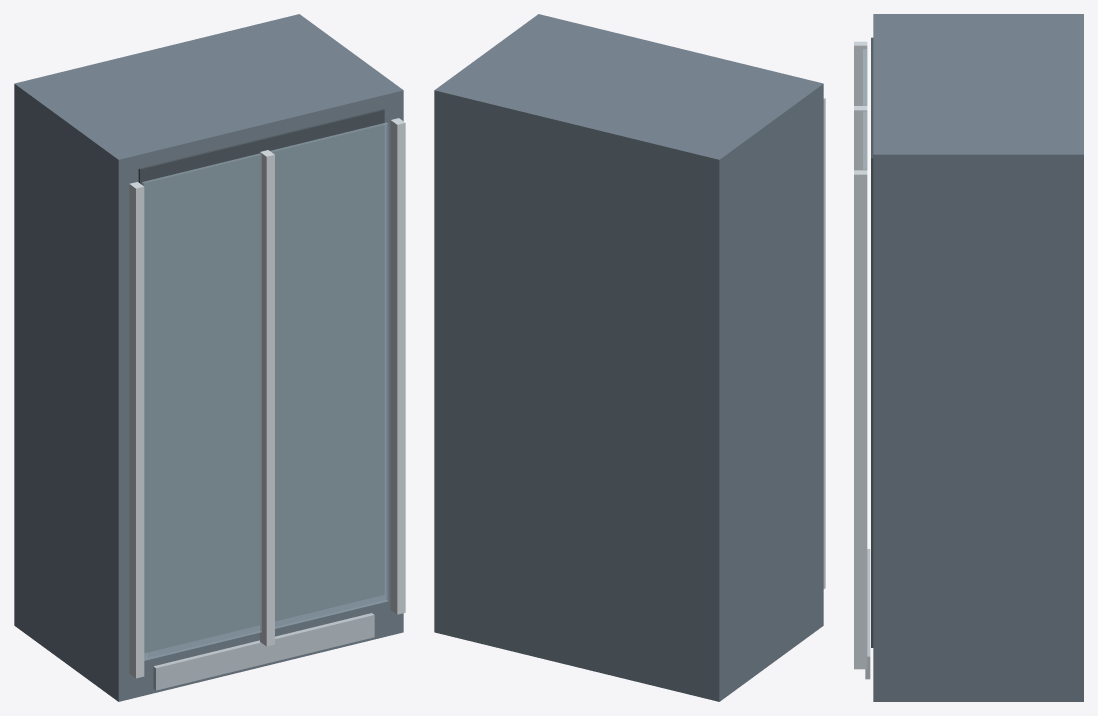
File: market_fridge01.glb
3 renders of one model, left to right at view 1: azimuth 30°, elevation 25°; view 2: azimuth 150°, elevation 25°; view 3: azimuth 270°, elevation 25°, orthographic.
Parts seen in each view (by area): view 1: glass_front_glass_2, cavity_plastic_dark_1, case_steel_painted_0, door_frame_chrome_3, compressor_grille_steel_brushed_8; view 2: case_steel_painted_0, door_frame_chrome_3; view 3: case_steel_painted_0, door_frame_chrome_3, cavity_plastic_dark_1, compressor_grille_steel_brushed_8, glass_front_glass_2.
Part boxes in pixels (x1=…): glass_front_glass_2: x1=142, y1=122, x2=388, y2=660; cavity_plastic_dark_1: x1=138, y1=109, x2=384, y2=652; case_steel_painted_0: x1=14, y1=14, x2=403, y2=701; door_frame_chrome_3: x1=129, y1=118, x2=405, y2=678; compressor_grille_steel_brushed_8: x1=153, y1=613, x2=374, y2=690; case_steel_painted_0: x1=434, y1=14, x2=823, y2=701; door_frame_chrome_3: x1=823, y1=98, x2=825, y2=588; case_steel_painted_0: x1=873, y1=14, x2=1083, y2=701; door_frame_chrome_3: x1=854, y1=41, x2=867, y2=669; cavity_plastic_dark_1: x1=871, y1=37, x2=873, y2=647; compressor_grille_steel_brushed_8: x1=865, y1=549, x2=870, y2=679; glass_front_glass_2: x1=863, y1=49, x2=866, y2=169.
Size of the model in its own units: 1.2 by 2.18 by 0.83.
